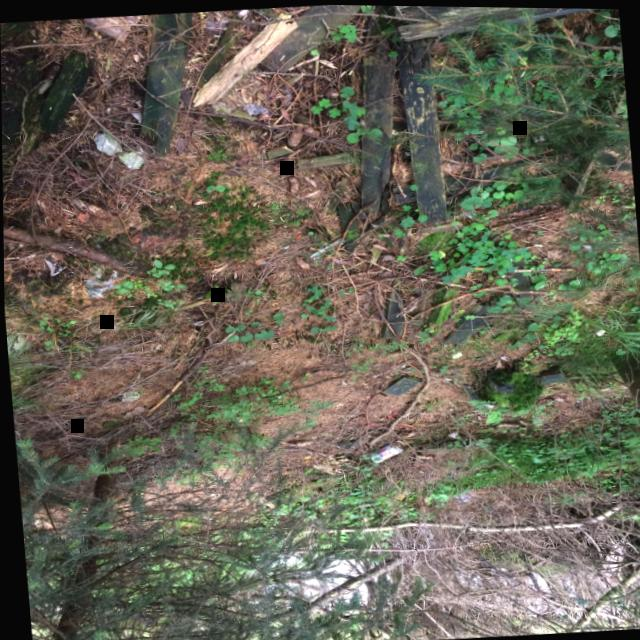Drink can: (368, 438, 403, 460)
Unlabeled litter: (308, 235, 343, 258)
